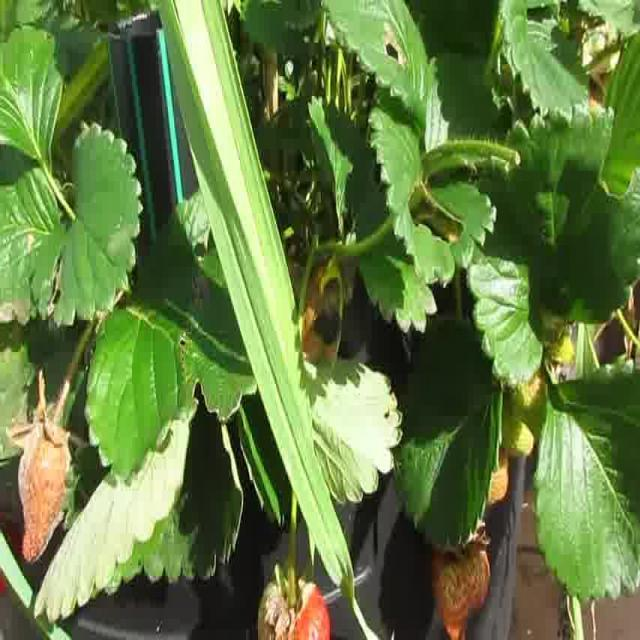Fruta sana: (431, 530, 492, 640), (510, 364, 548, 451), (496, 381, 534, 458), (479, 422, 509, 502), (545, 328, 576, 366)
Moho gris: (18, 418, 74, 564), (256, 575, 330, 640)
